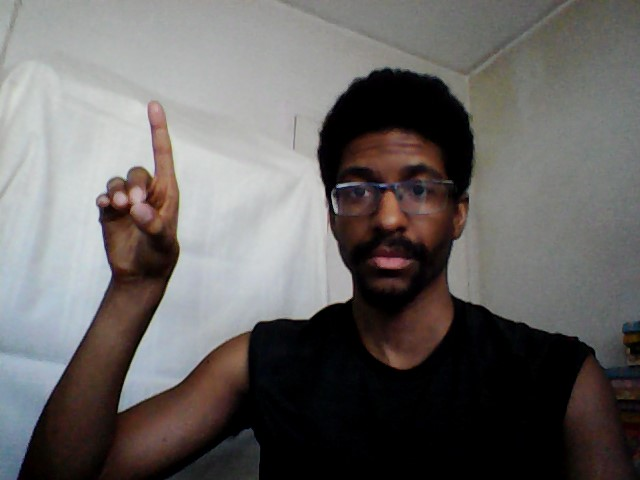d: (92, 98, 183, 293)
